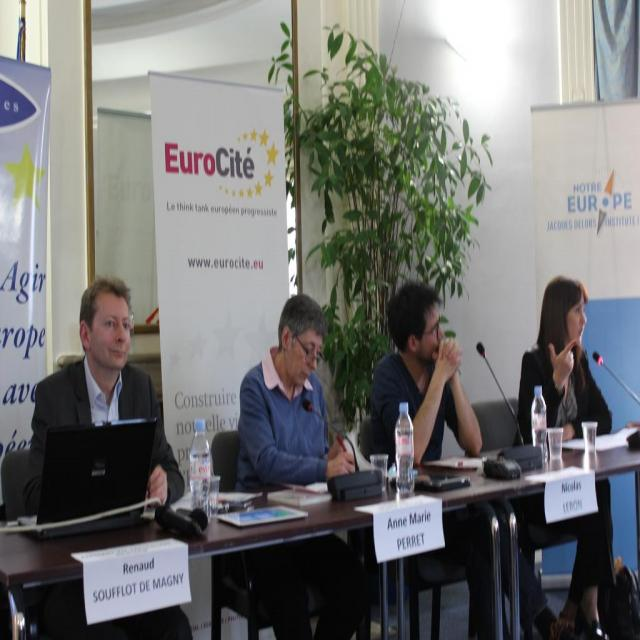table: (0, 418, 636, 640)
